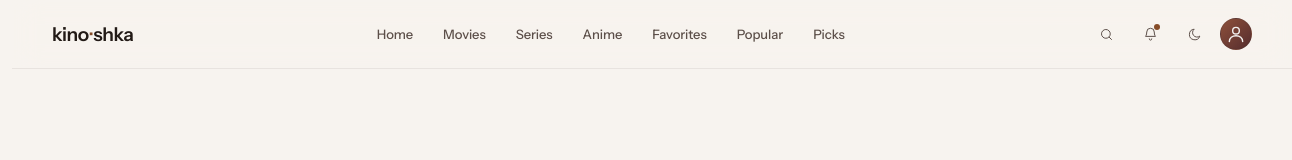
Header — nav pills синхронизируют ?type с фильтром/chips › клик по "Series" на главной → /search?type=series, фильтр и chip применяются
Click the button "Series" at (534, 34), box [502, 17, 566, 51]
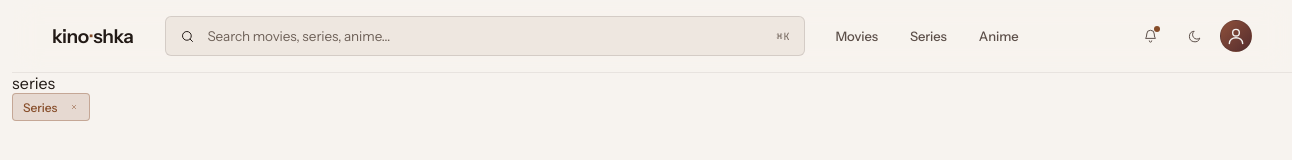
Check: the text with test id "filter-type" reads "series", box [12, 73, 55, 93]
Check: the number of buttons "Series" is 2, box [896, 19, 961, 53]; [12, 93, 90, 121]
